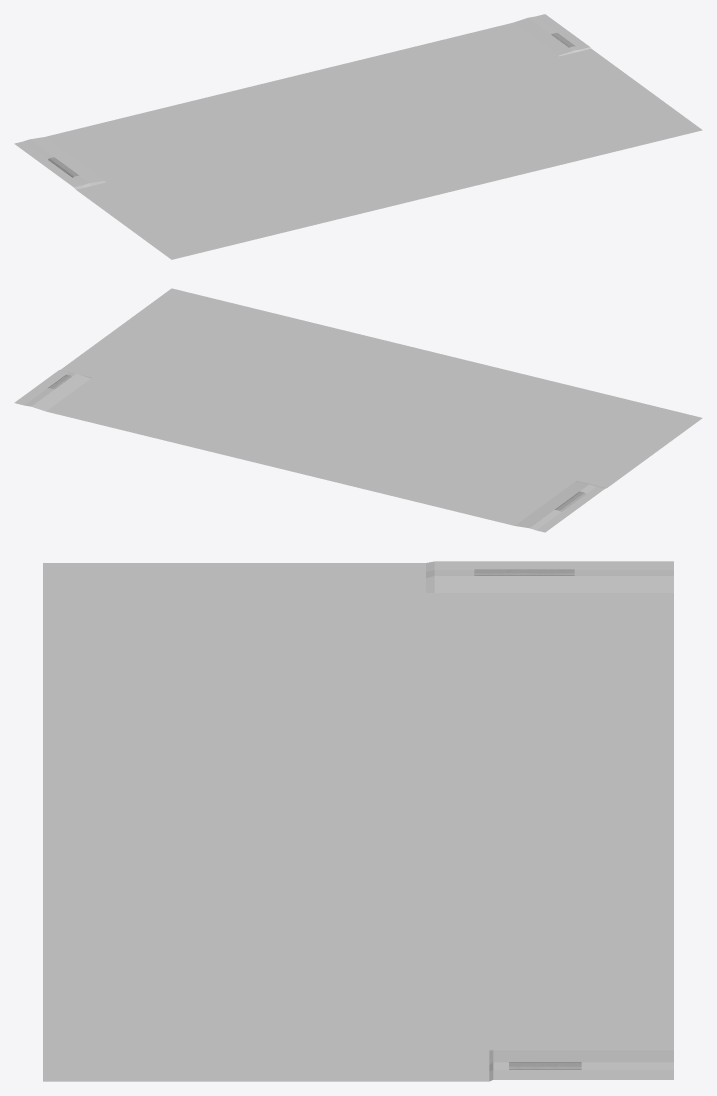
Rendered from floor and saddles.fbx.
3 views of the same model, one above another, from view 1: azimuth 30°, elevation 25°; view 2: azimuth 150°, elevation 25°; view 3: azimuth 270°, elevation 25° (orthographic). The views are drawn at different scales.
Parts seen in each view (by area): view 1: lab floor; view 2: lab floor; view 3: lab floor.
Part boxes in pixels (bbox=[...]): lab floor: bbox=[14, 14, 702, 259]; lab floor: bbox=[14, 288, 702, 532]; lab floor: bbox=[43, 561, 673, 1081].
Size of the model in its own units: 1367 by 4.44 by 703.
